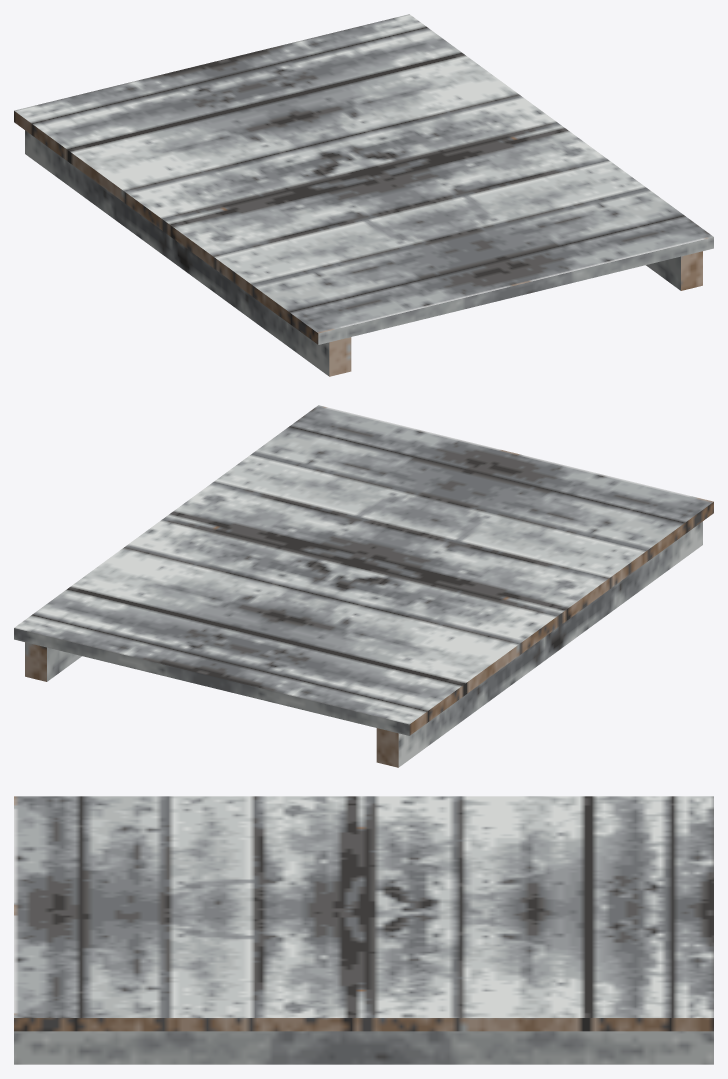
Rendered from pallet.glb.
3 views of the same model, one above another, from view 1: azimuth 30°, elevation 25°; view 2: azimuth 150°, elevation 25°; view 3: azimuth 270°, elevation 25° (orthographic). The views are drawn at different scales.
Parts seen in each view (by area): view 1: instance_0; view 2: instance_0; view 3: instance_0.
Part boxes in pixels (x1=…): instance_0: x1=14, y1=14, x2=713, y2=376; instance_0: x1=14, y1=405, x2=713, y2=767; instance_0: x1=14, y1=796, x2=713, y2=1064.
Size of the model in its own units: 0.9 by 0.1 by 1.2.
Materials: 1 (1 with a texture image).
